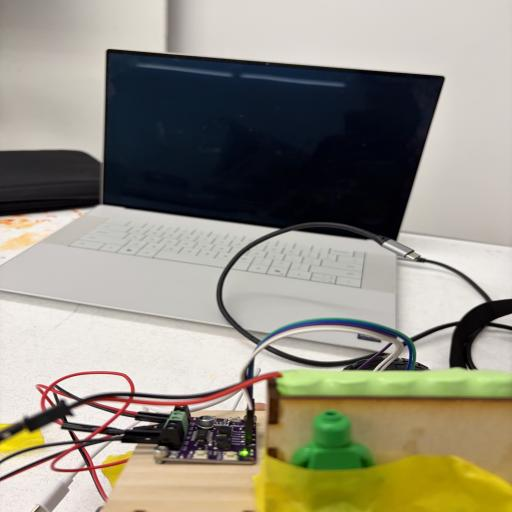Green-Lego: (291, 410, 374, 470)
